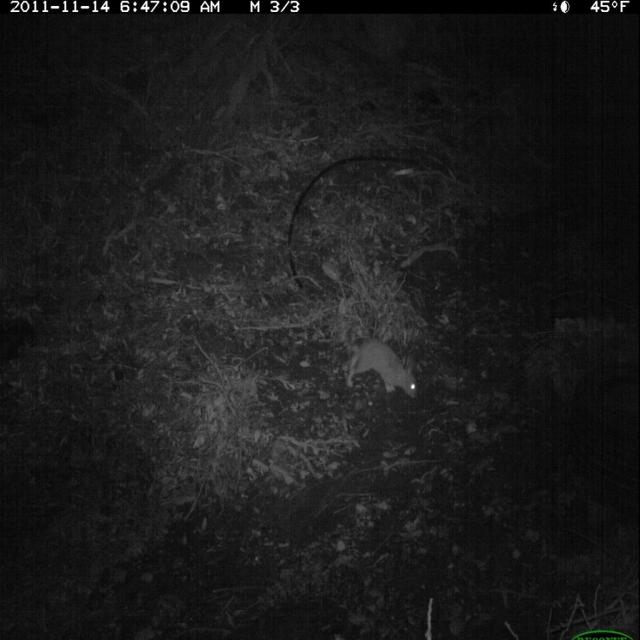rabbit: (342, 331, 423, 409)
